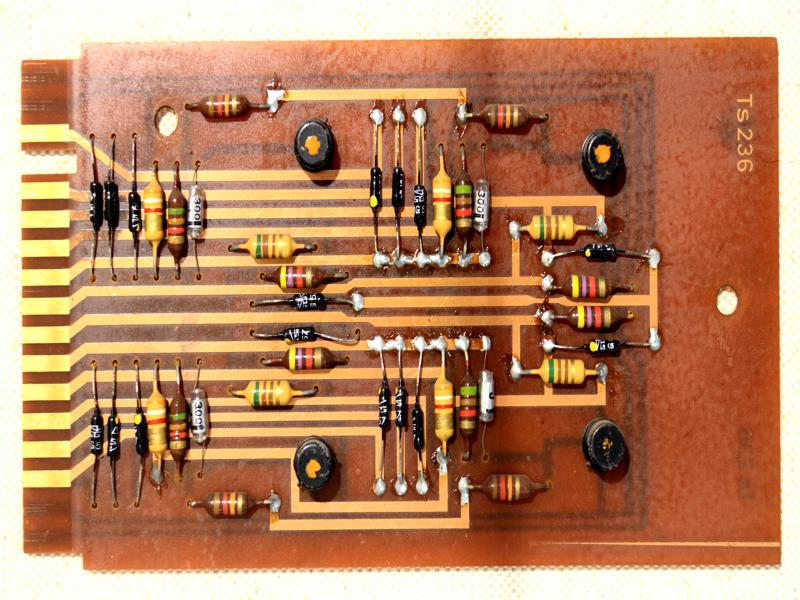Resistor: (192, 90, 258, 124), (142, 171, 165, 263), (239, 377, 302, 410), (167, 387, 192, 467), (267, 261, 331, 292), (165, 179, 188, 263), (197, 489, 261, 519), (145, 384, 167, 467), (244, 230, 301, 261), (274, 346, 340, 372)
